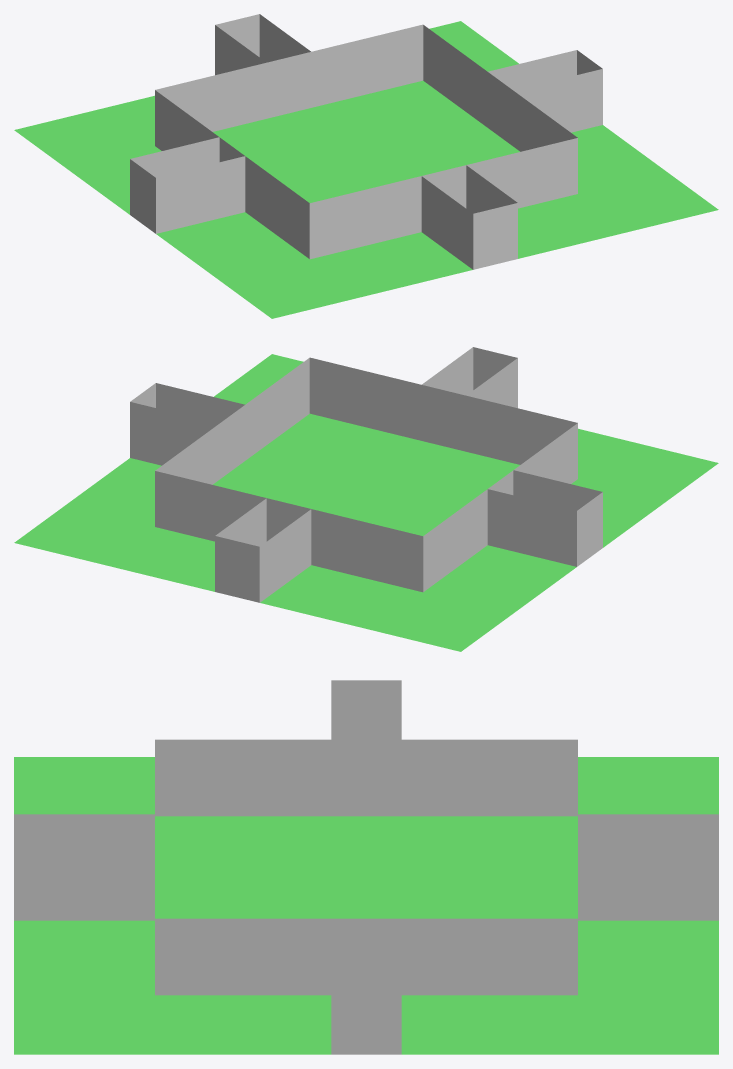
Rendered from RoomModel_1.fbx.
3 renders of one model, top to bottom at view 1: azimuth 30°, elevation 25°; view 2: azimuth 150°, elevation 25°; view 3: azimuth 270°, elevation 25°, orthographic. The views are drawn at different scales.
Visible parts, largest first — view 1: Walls.001, Floor .001, South_Door.001, East_Door.001, North-Door.001, South_Entrance.001, East_Entrance.001; view 2: Walls.001, Floor .001, North-Door.001, East_Door.001, South_Door.001, North-Entrance .001, East_Entrance.001; view 3: Floor .001, Walls.001, West_Door.001, East_Door.001, West_Entrance.001, North-Entrance .001, South_Entrance.001.
Boxes of the visible parts, <box> form: Walls.001: <box>130,14,602,269</box>; Floor .001: <box>14,21,718,318</box>; South_Door.001: <box>266,52,311,118</box>; East_Door.001: <box>487,72,513,146</box>; North-Door.001: <box>422,165,466,208</box>; South_Entrance.001: <box>267,108,323,127</box>; East_Entrance.001: <box>466,128,512,151</box>; Walls.001: <box>130,347,602,602</box>; Floor .001: <box>14,354,718,651</box>; North-Door.001: <box>421,385,466,451</box>; East_Door.001: <box>219,405,245,479</box>; South_Door.001: <box>266,498,310,541</box>; North-Entrance .001: <box>409,441,465,460</box>; East_Entrance.001: <box>220,461,266,484</box>; Floor .001: <box>14,757,718,1054</box>; Walls.001: <box>14,680,718,1054</box>; West_Door.001: <box>331,739,401,816</box>; East_Door.001: <box>331,918,401,977</box>; West_Entrance.001: <box>331,816,401,831</box>; North-Entrance .001: <box>155,891,190,918</box>; South_Entrance.001: <box>542,891,577,918</box>.
Bounding box in the file's own units: 50 × 6 × 50.
